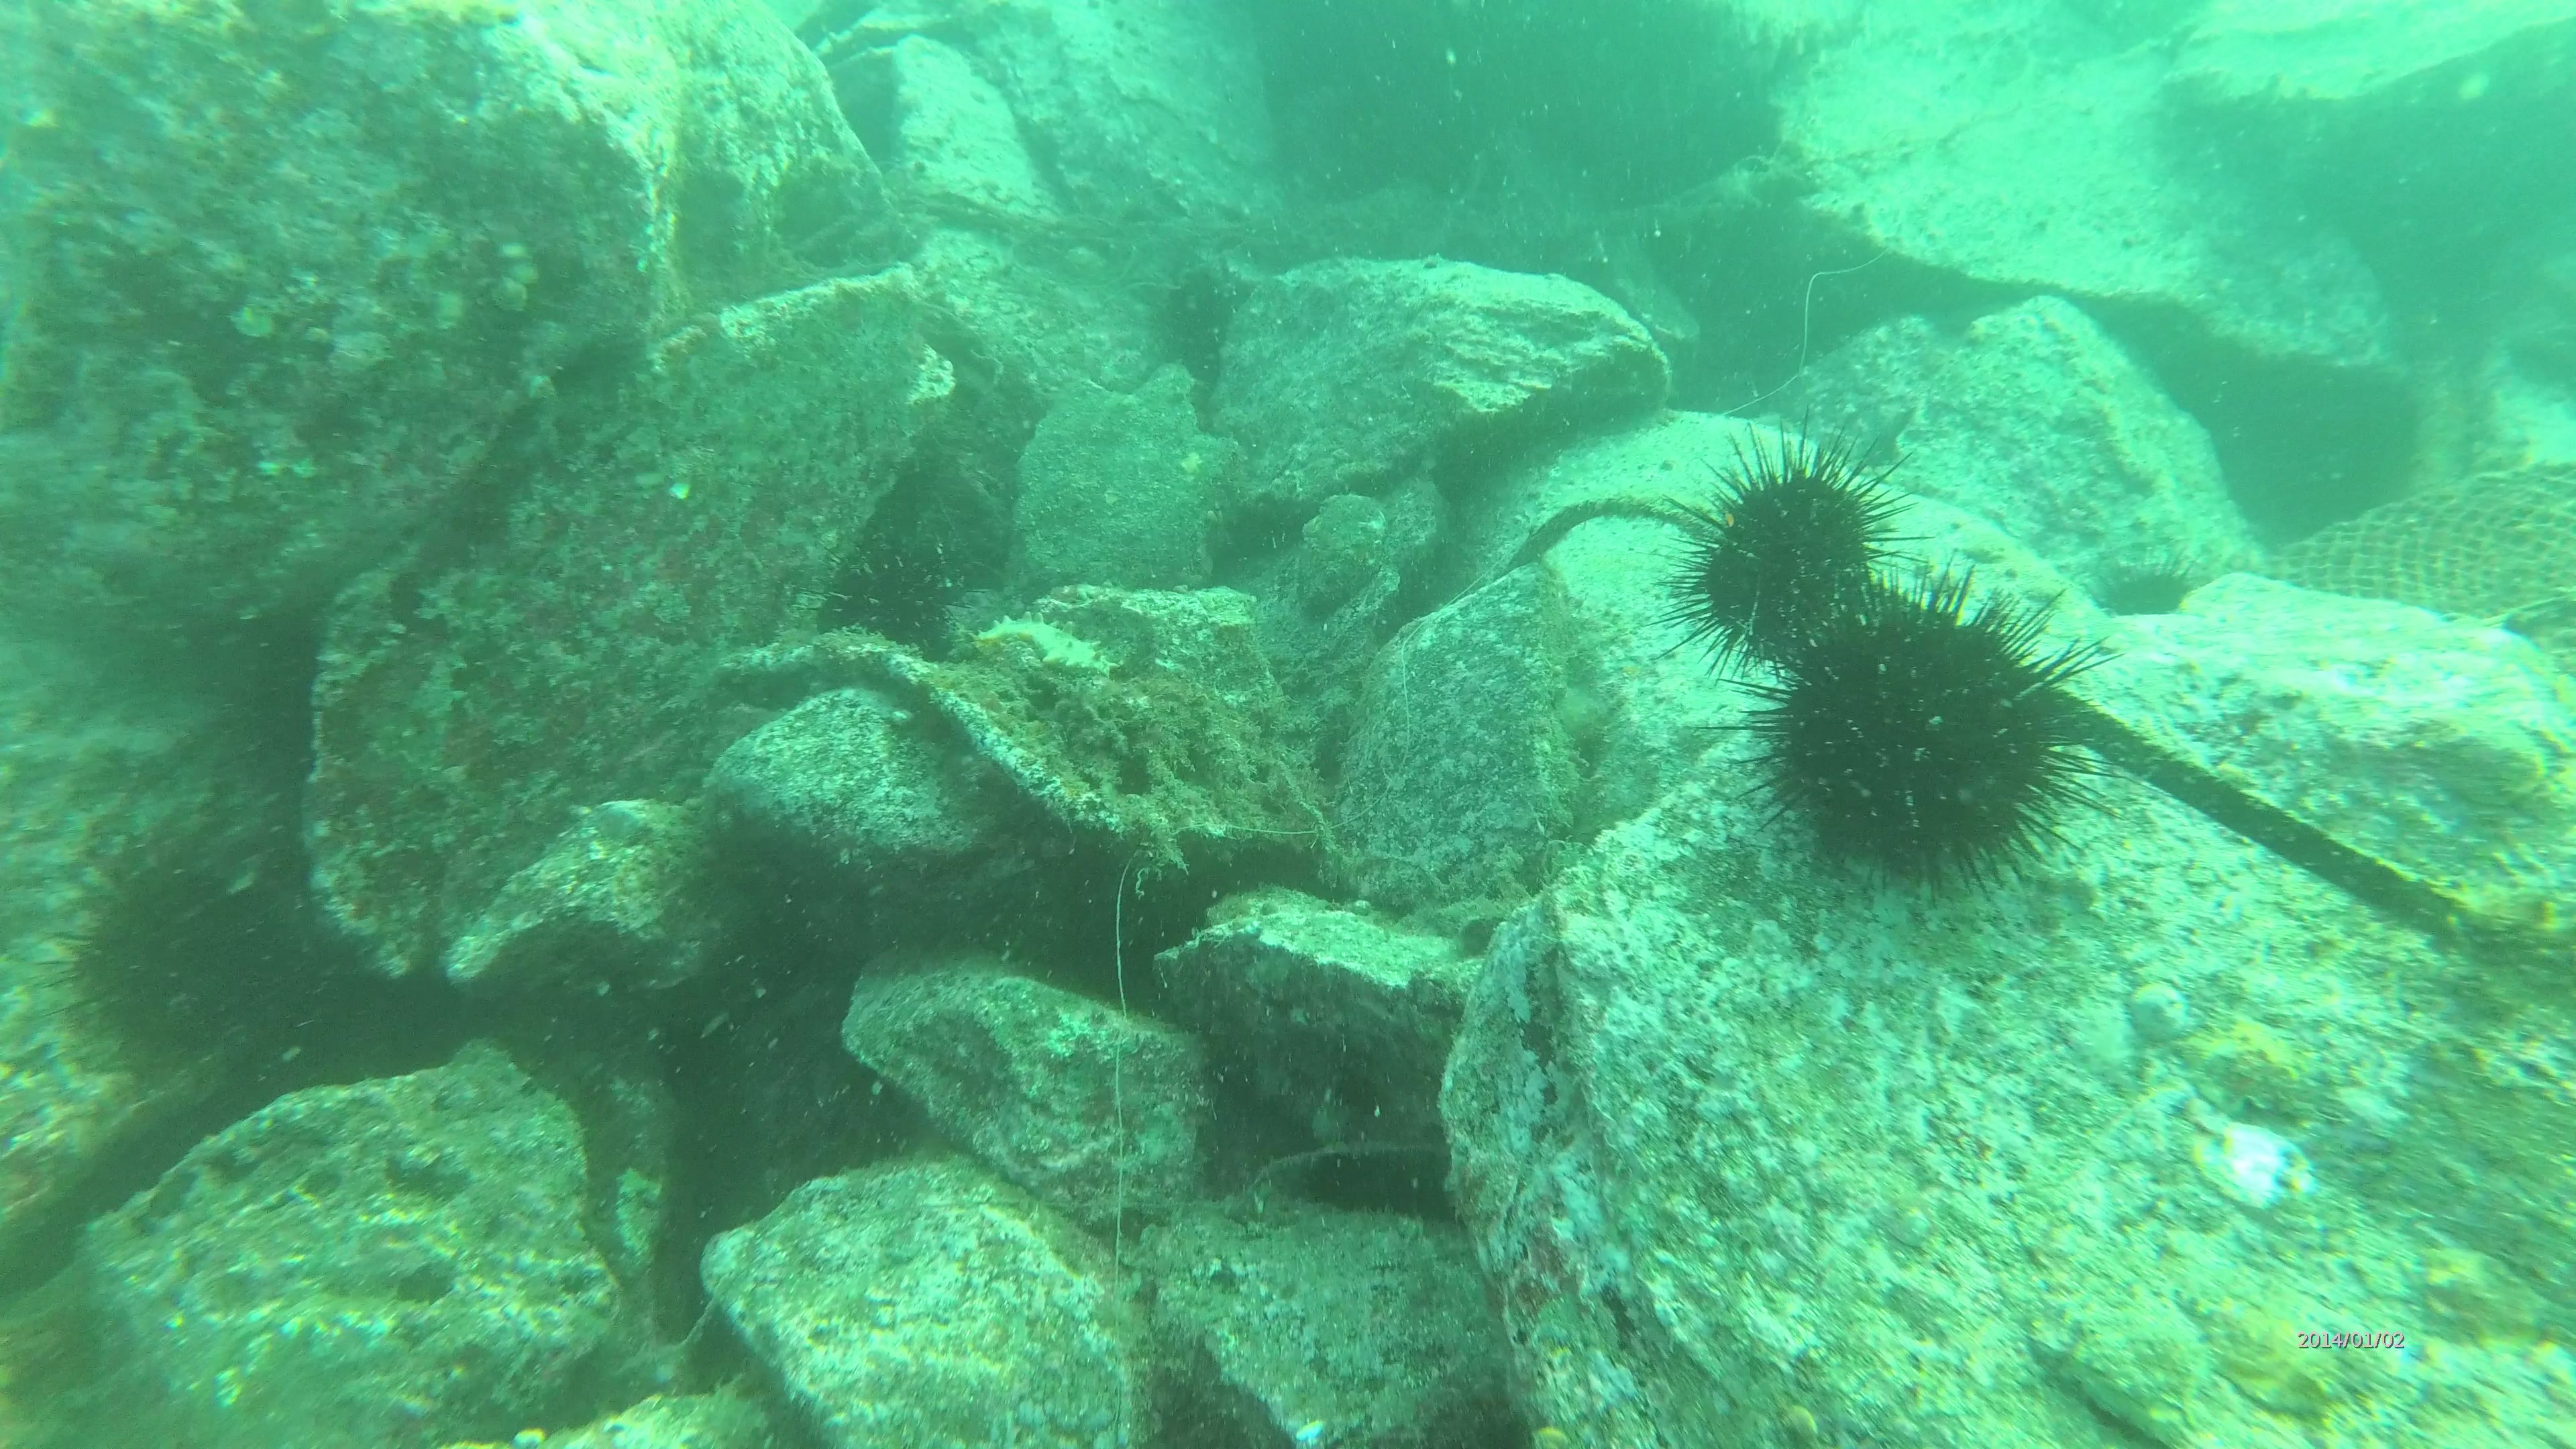echinus: (1746, 575, 2111, 892), (1647, 419, 1923, 672), (48, 844, 327, 1070), (816, 538, 977, 658)
holothurian: (980, 607, 1120, 679)
scallop: (2187, 1118, 2321, 1214), (488, 276, 531, 313), (234, 304, 280, 338), (508, 260, 543, 283)
